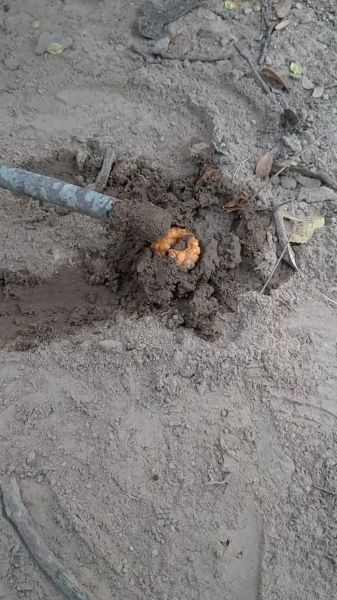eggs: (148, 220, 208, 274)
